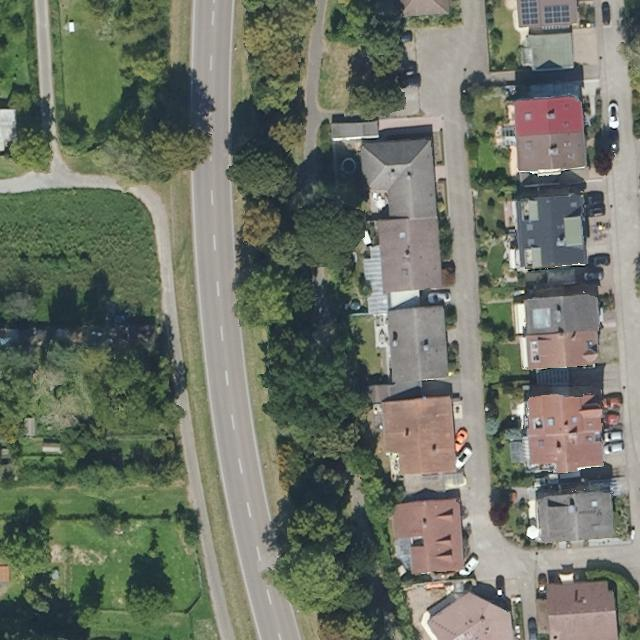PV: (543, 3, 575, 25), (519, 0, 542, 27)
